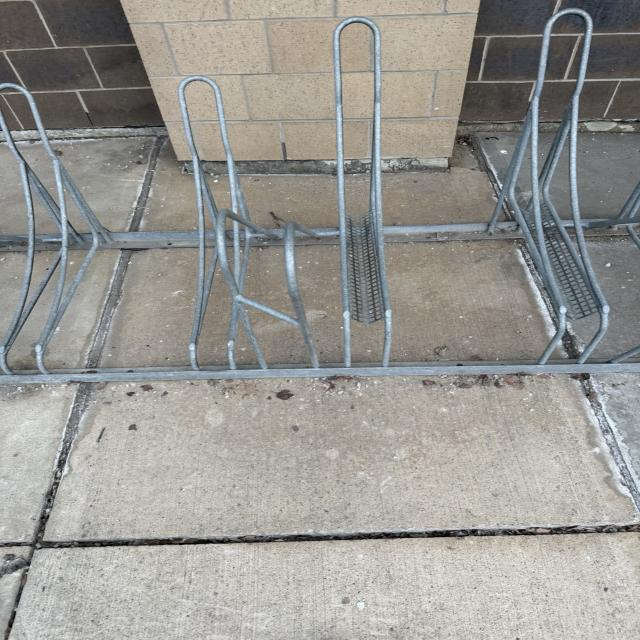Bicycle Rack: (0, 10, 640, 382)
